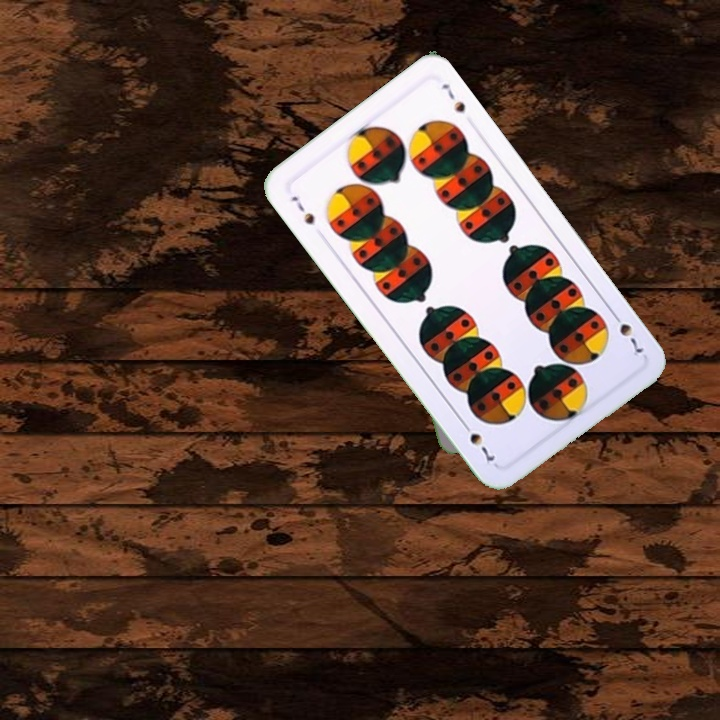S7: (607, 307, 646, 359), (287, 191, 317, 228)
